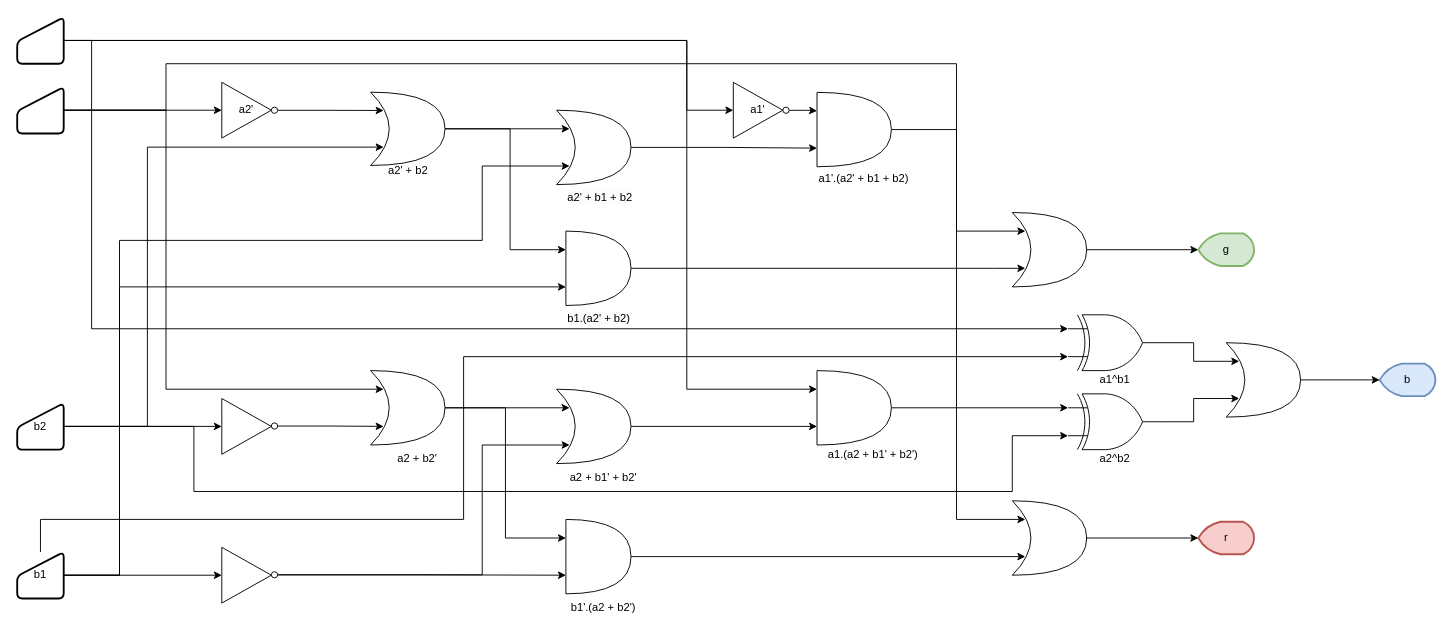
This 1452x637 diagram has some shape labels left out. Each missing label, with the box of its shape:
a1: (16, 16, 64, 64)
a2: (16, 86, 64, 134)
b1': (221, 546, 271, 603)
b2': (221, 398, 271, 454)
